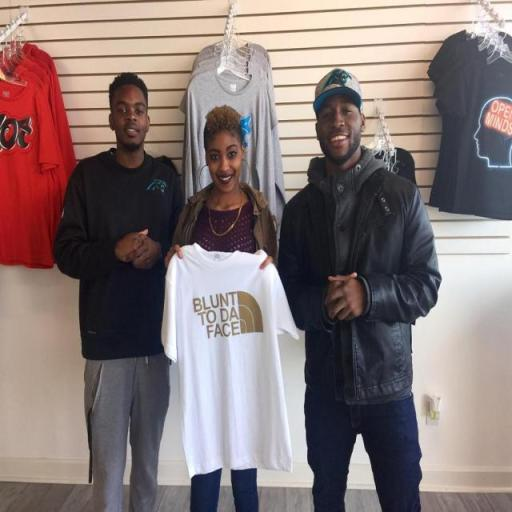The North Face: (188, 288, 270, 342)
